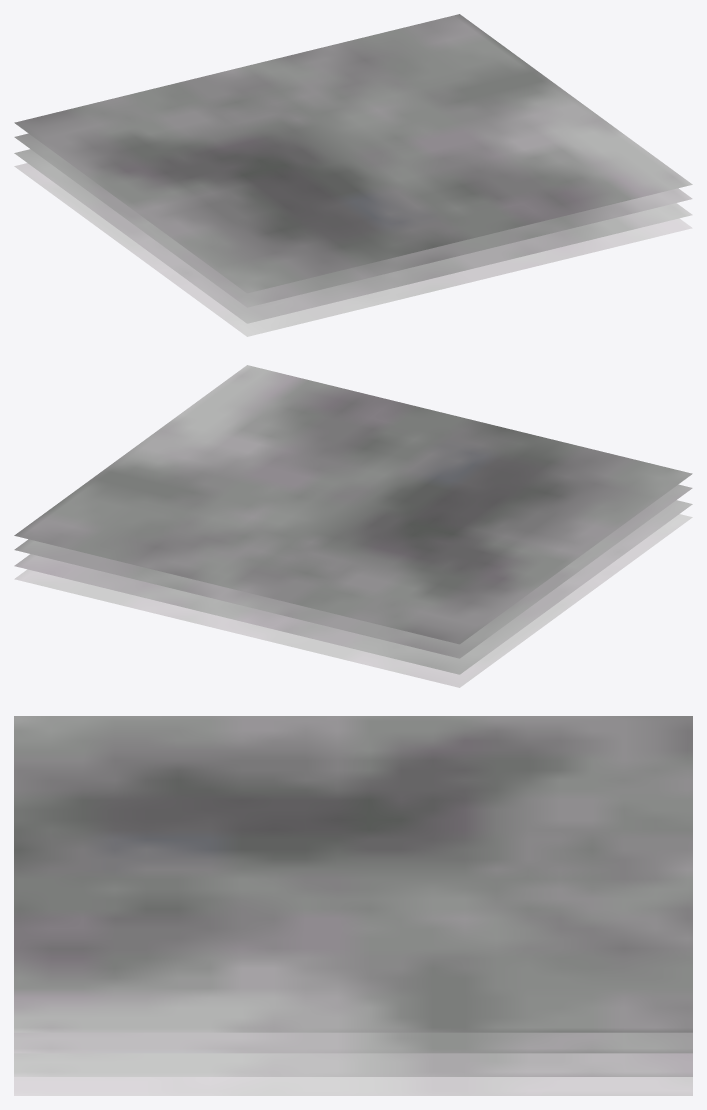
The model's file is SWORDLIGHT20_MAINCAVERNCLOUDS14.fbx.
The picture shows the model from 3 angles, top to bottom: view 1: azimuth 30°, elevation 25°; view 2: azimuth 150°, elevation 25°; view 3: azimuth 270°, elevation 25°; orthographic projection. The views are drawn at different scales.
Visible parts, largest first — view 1: SWORDLIGHT20_MAINCAVERNCLOUDS14; view 2: SWORDLIGHT20_MAINCAVERNCLOUDS14; view 3: SWORDLIGHT20_MAINCAVERNCLOUDS14.
Part boxes in pixels (x1,y1,x2,y2): SWORDLIGHT20_MAINCAVERNCLOUDS14: (14, 14, 692, 336); SWORDLIGHT20_MAINCAVERNCLOUDS14: (14, 365, 692, 687); SWORDLIGHT20_MAINCAVERNCLOUDS14: (14, 716, 692, 1095).
Size of the model in its own units: 161490 by 15056 by 146334.
Materials: 4 (4 with a texture image).
